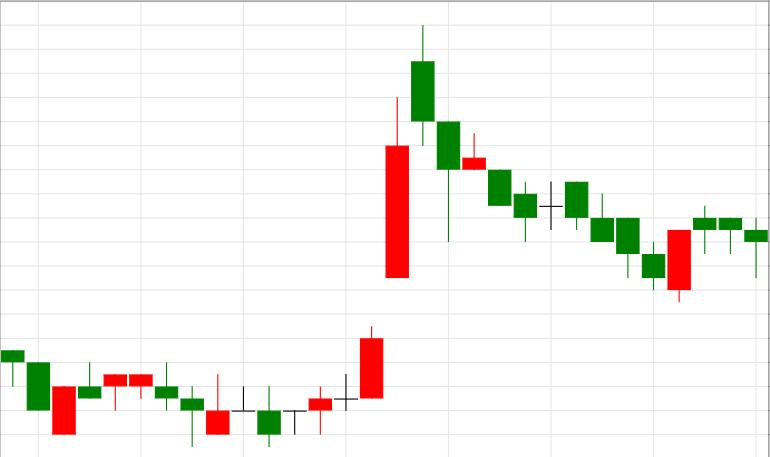bullish_engulfing_rise: (411, 26, 690, 302)
